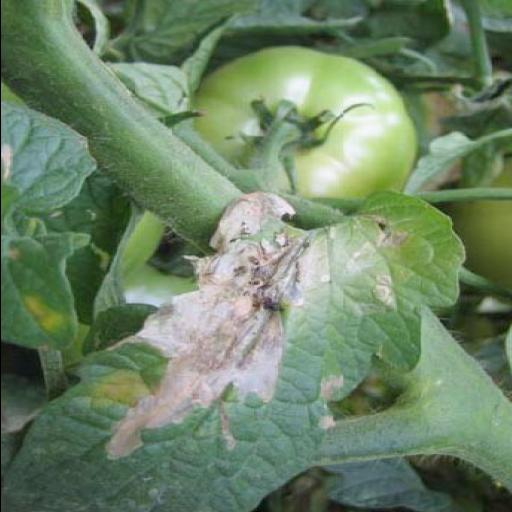disease_tomato: (2, 189, 468, 512)
